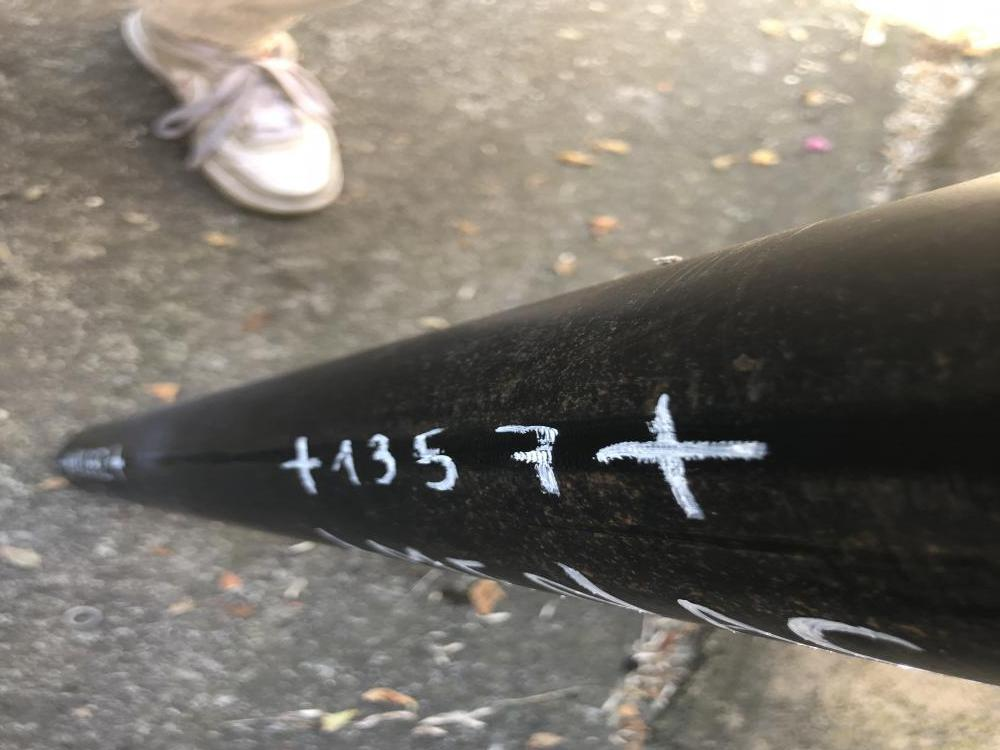+: (597, 395, 770, 523), (284, 435, 326, 493)
1: (333, 438, 362, 487)
3: (370, 434, 396, 487)
5: (412, 427, 459, 493)
7: (495, 425, 564, 497)
